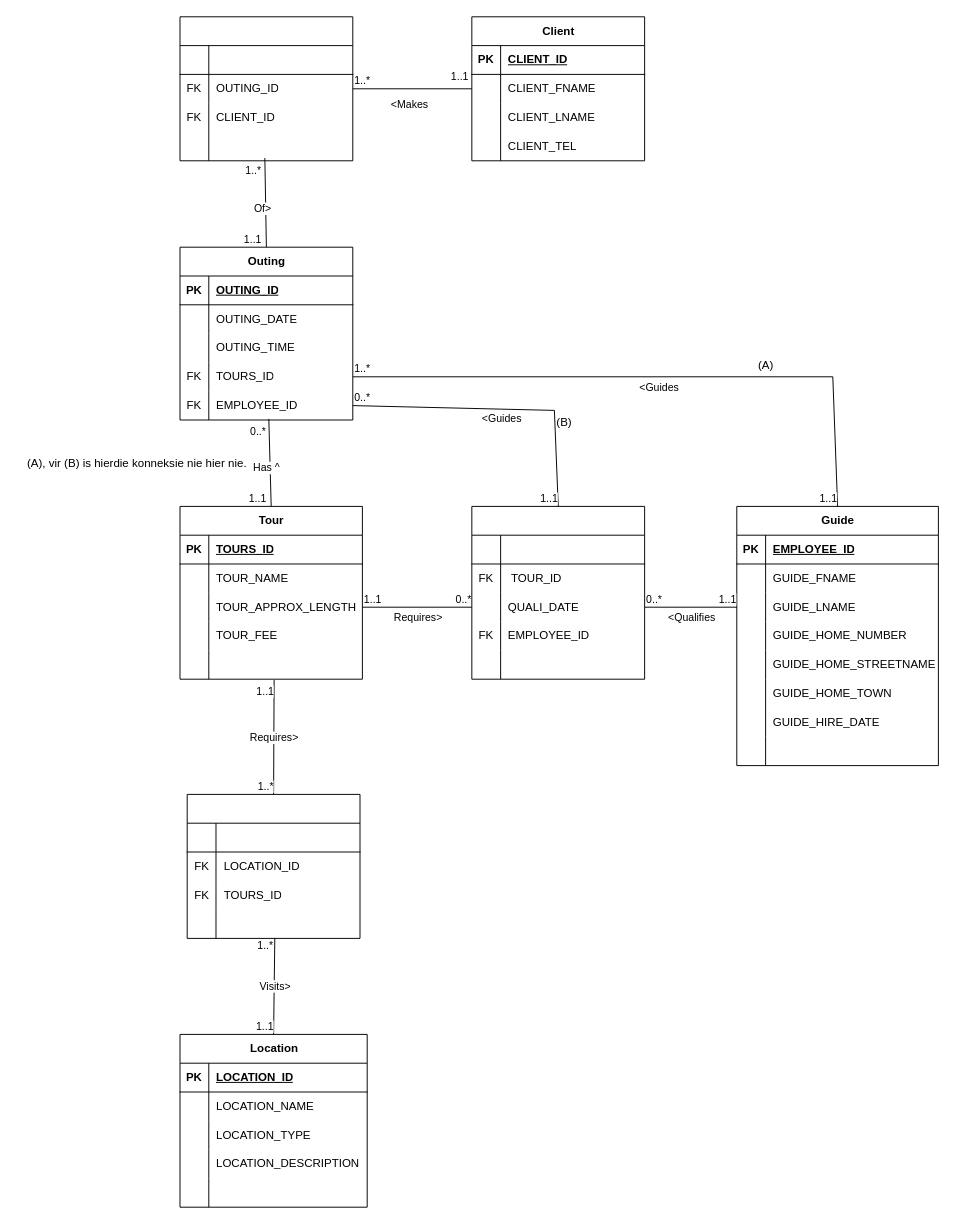
Image size: 955x1224. Some labels were removed from this diagram. The box of each missing label's shape, as (x1, y1, x2, y2) in pixels:
Booking: (179, 16, 353, 161)
Qualification: (471, 505, 645, 679)
Tour_Location/Stops: (186, 793, 360, 938)
